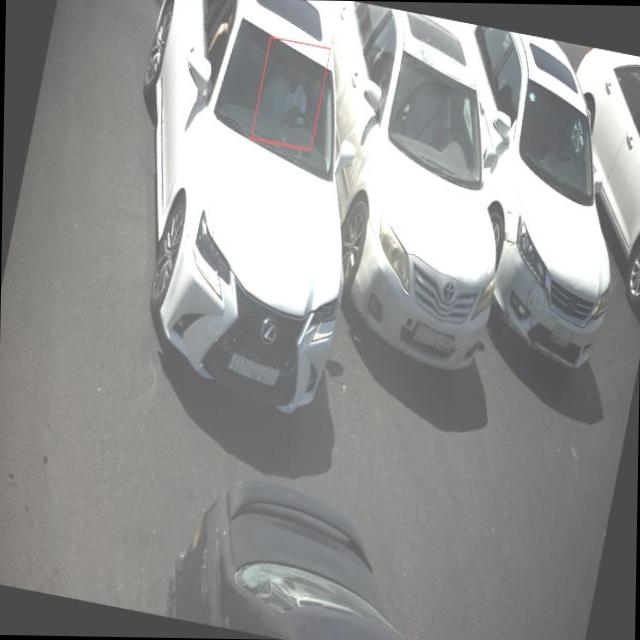person_with_seatbelt: (407, 76, 460, 150)
person_without_seatbelt: (260, 47, 323, 138)
